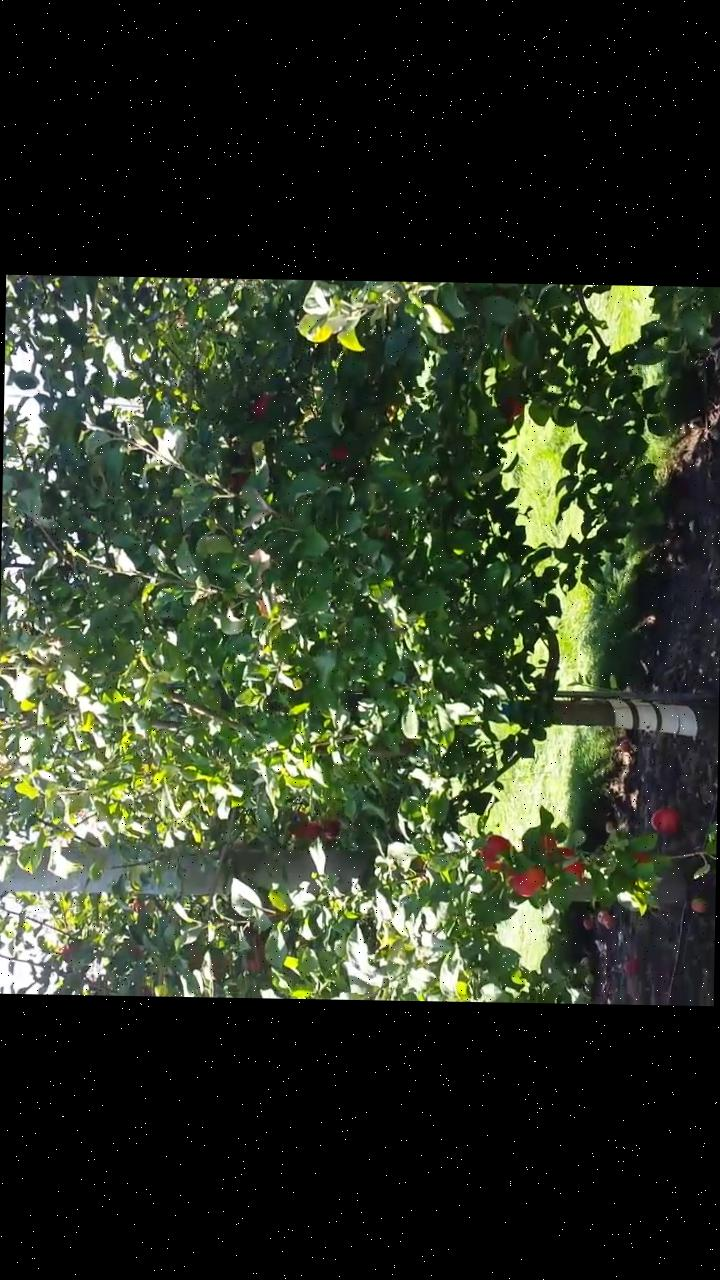Apple: (506, 864, 546, 898), (554, 847, 586, 882), (480, 835, 510, 872), (252, 388, 278, 416), (288, 819, 322, 840), (499, 392, 523, 418), (542, 836, 558, 859), (322, 820, 340, 840), (628, 851, 652, 864), (330, 444, 348, 461)
